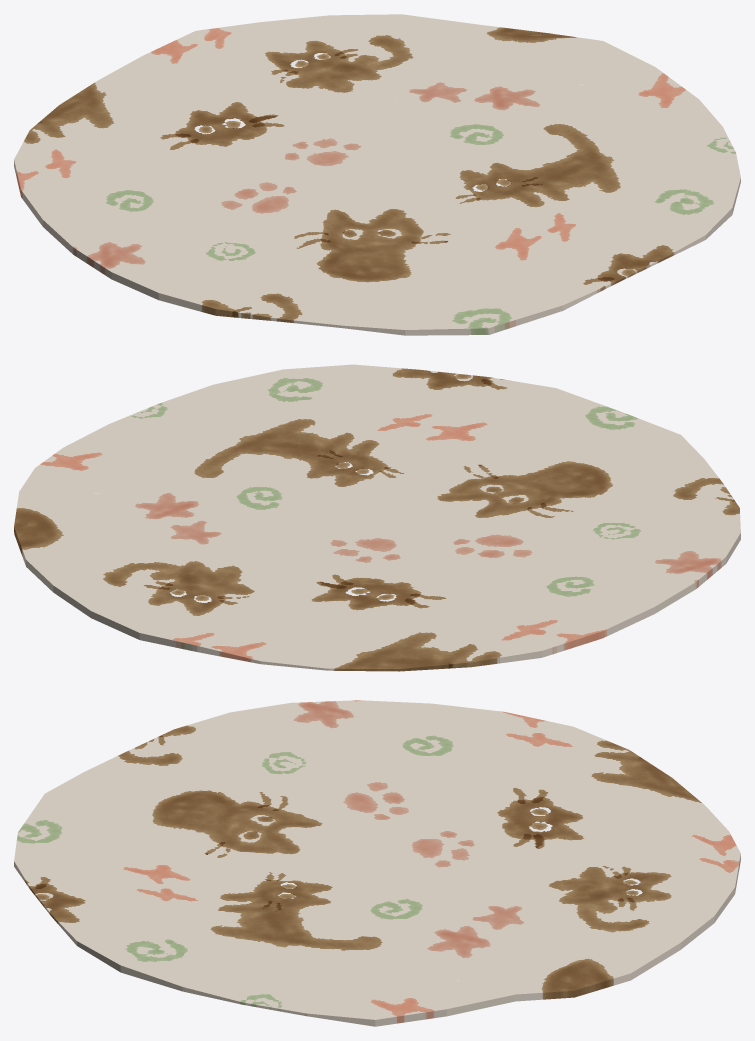
File: lid.fbx
3 views of the same model, one above another, from view 1: azimuth 30°, elevation 25°; view 2: azimuth 150°, elevation 25°; view 3: azimuth 270°, elevation 25° (orthographic).
Visible parts, largest first — view 1: Cylinder.001; view 2: Cylinder.001; view 3: Cylinder.001.
Boxes of the visible parts, x1,y1,x2,y2 form: Cylinder.001: (14,14,740,335); Cylinder.001: (14,364,740,671); Cylinder.001: (14,700,740,1026).
Size of the model in its own units: 95.25 by 3.14 by 95.23.
1 material, 1 textured.
